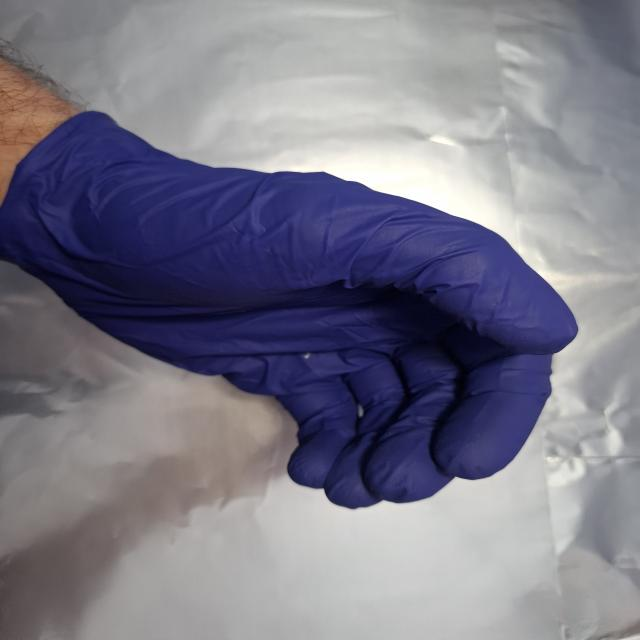glove_on: (5, 104, 581, 513)
